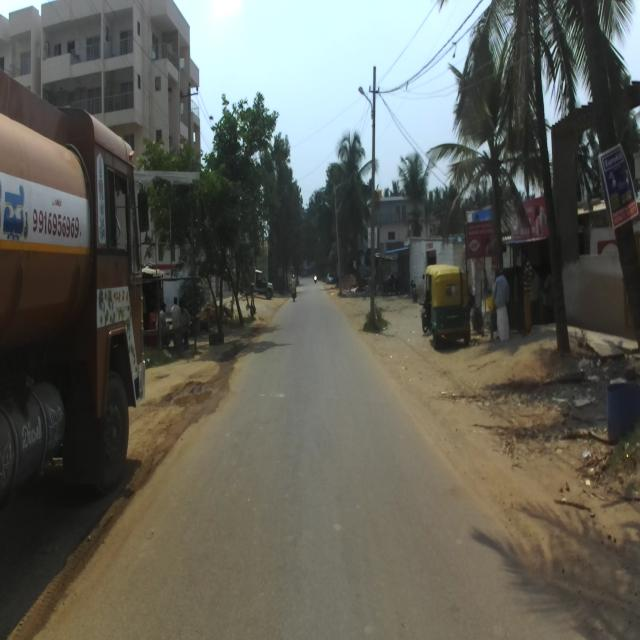auto ahead at: (423, 258, 471, 350)
electric pole ahead at: (356, 60, 389, 335)
person ahead at: (167, 289, 194, 349)
tree ahead at: (200, 225, 247, 356)
truck ahead at: (0, 68, 150, 507)
